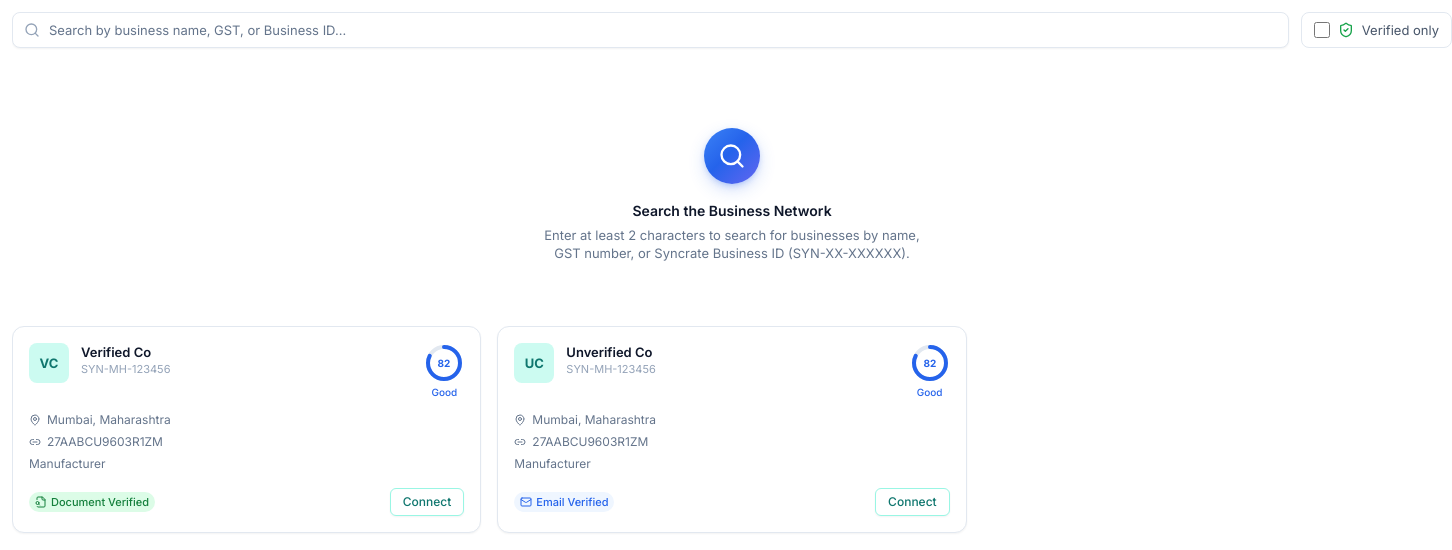
Scenario: BusinessDiscovery › filters to verified businesses only when the checkbox is toggled
The width and height of the screenshot is (1452, 550).
Expected: the heading "Unverified Co" is shown, x1=566 y1=344 x2=652 y2=360
Click the checkbox labelled "Verified only".
click(1322, 30)  # box x1=1314 y1=22 x2=1330 y2=38
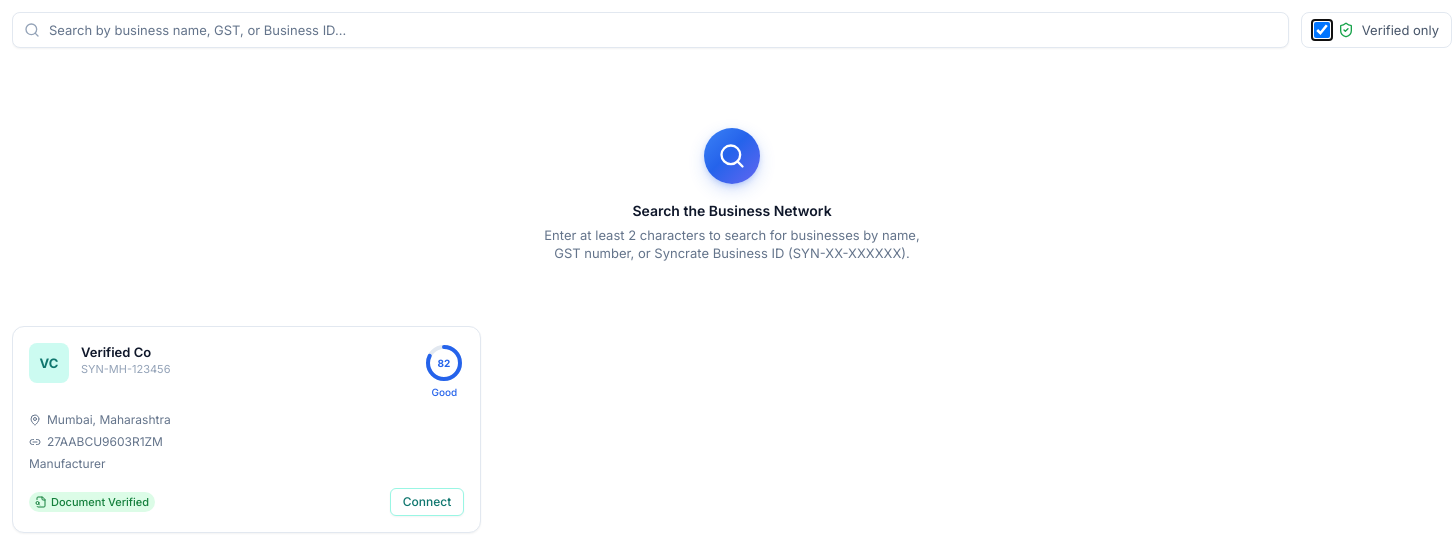
Expected: the heading "Verified Co" is shown, x1=81 y1=344 x2=151 y2=360
Expected: the heading "Unverified Co" is gone
